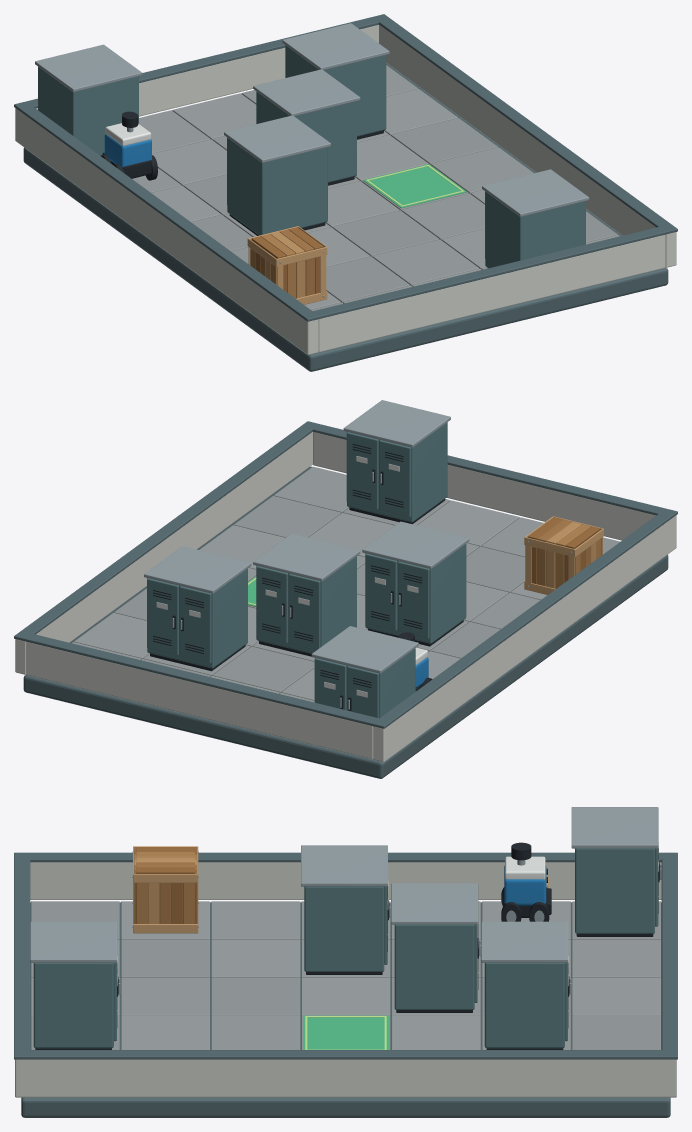
3 views of the same model, one above another, from view 1: azimuth 30°, elevation 25°; view 2: azimuth 150°, elevation 25°; view 3: azimuth 270°, elevation 25° (orthographic). The views are drawn at different scales.
Visible parts, largest first — view 1: Cutaway wall.002, Floor foundation, obstacle_1, Cutaway wall, Cutaway wall.001, obstacle_3, obstacle_0, obstacle_4, obstacle_2, Cutaway wall.003, crate, Wall coping (+25 smaller); view 2: Cutaway wall.003, Floor foundation, obstacle_3, obstacle_4, obstacle_1, obstacle_2, Cutaway wall, Cutaway wall.001, obstacle_0, Cutaway wall.002, crate, Wall coping (+18 smaller); view 3: Cutaway wall.001, Floor foundation, Cutaway wall, obstacle_2, obstacle_0, obstacle_4, obstacle_3, obstacle_1, Wall coping.001, crate, Wall coping, Tile_0_2 (+21 smaller).
Boxes of the visible parts, bbox=[...] form: Cutaway wall.002: bbox=[318, 234, 665, 352]; Floor foundation: bbox=[23, 63, 668, 371]; obstacle_1: bbox=[224, 115, 330, 235]; Cutaway wall: bbox=[15, 108, 318, 354]; Cutaway wall.001: bbox=[379, 24, 676, 267]; obstacle_3: bbox=[482, 169, 589, 268]; obstacle_0: bbox=[35, 44, 142, 155]; obstacle_4: bbox=[282, 23, 389, 139]; obstacle_2: bbox=[253, 69, 360, 185]; Cutaway wall.003: bbox=[36, 25, 378, 116]; crate: bbox=[247, 226, 327, 304]; Wall coping: bbox=[14, 101, 319, 321]; Cutaway wall.003: bbox=[26, 641, 373, 759]; Floor foundation: bbox=[23, 466, 668, 778]; obstacle_3: bbox=[343, 400, 450, 524]; obstacle_4: bbox=[144, 546, 251, 671]; obstacle_1: bbox=[362, 521, 469, 646]; obstacle_2: bbox=[253, 534, 360, 656]; Cutaway wall: bbox=[373, 515, 676, 762]; Cutaway wall.001: bbox=[15, 432, 312, 674]; obstacle_0: bbox=[311, 626, 418, 718]; Cutaway wall.002: bbox=[313, 432, 655, 540]; crate: bbox=[524, 516, 603, 594]; Wall coping: bbox=[372, 508, 677, 728]; Cutaway wall.001: bbox=[15, 1059, 676, 1097]; Floor foundation: bbox=[21, 902, 670, 1117]; Cutaway wall: bbox=[30, 862, 661, 899]; obstacle_2: bbox=[391, 883, 481, 1012]; obstacle_0: bbox=[571, 807, 661, 936]; obstacle_4: bbox=[481, 921, 571, 1049]; obstacle_3: bbox=[30, 921, 120, 1049]; obstacle_1: bbox=[301, 845, 390, 974]; Wall coping.001: bbox=[14, 1050, 677, 1059]; crate: bbox=[132, 846, 198, 933]; Wall coping: bbox=[14, 852, 677, 862]; Tile_0_2: bbox=[211, 901, 300, 939].
Size of the model in its own units: 5.36 by 1.44 by 7.36.
